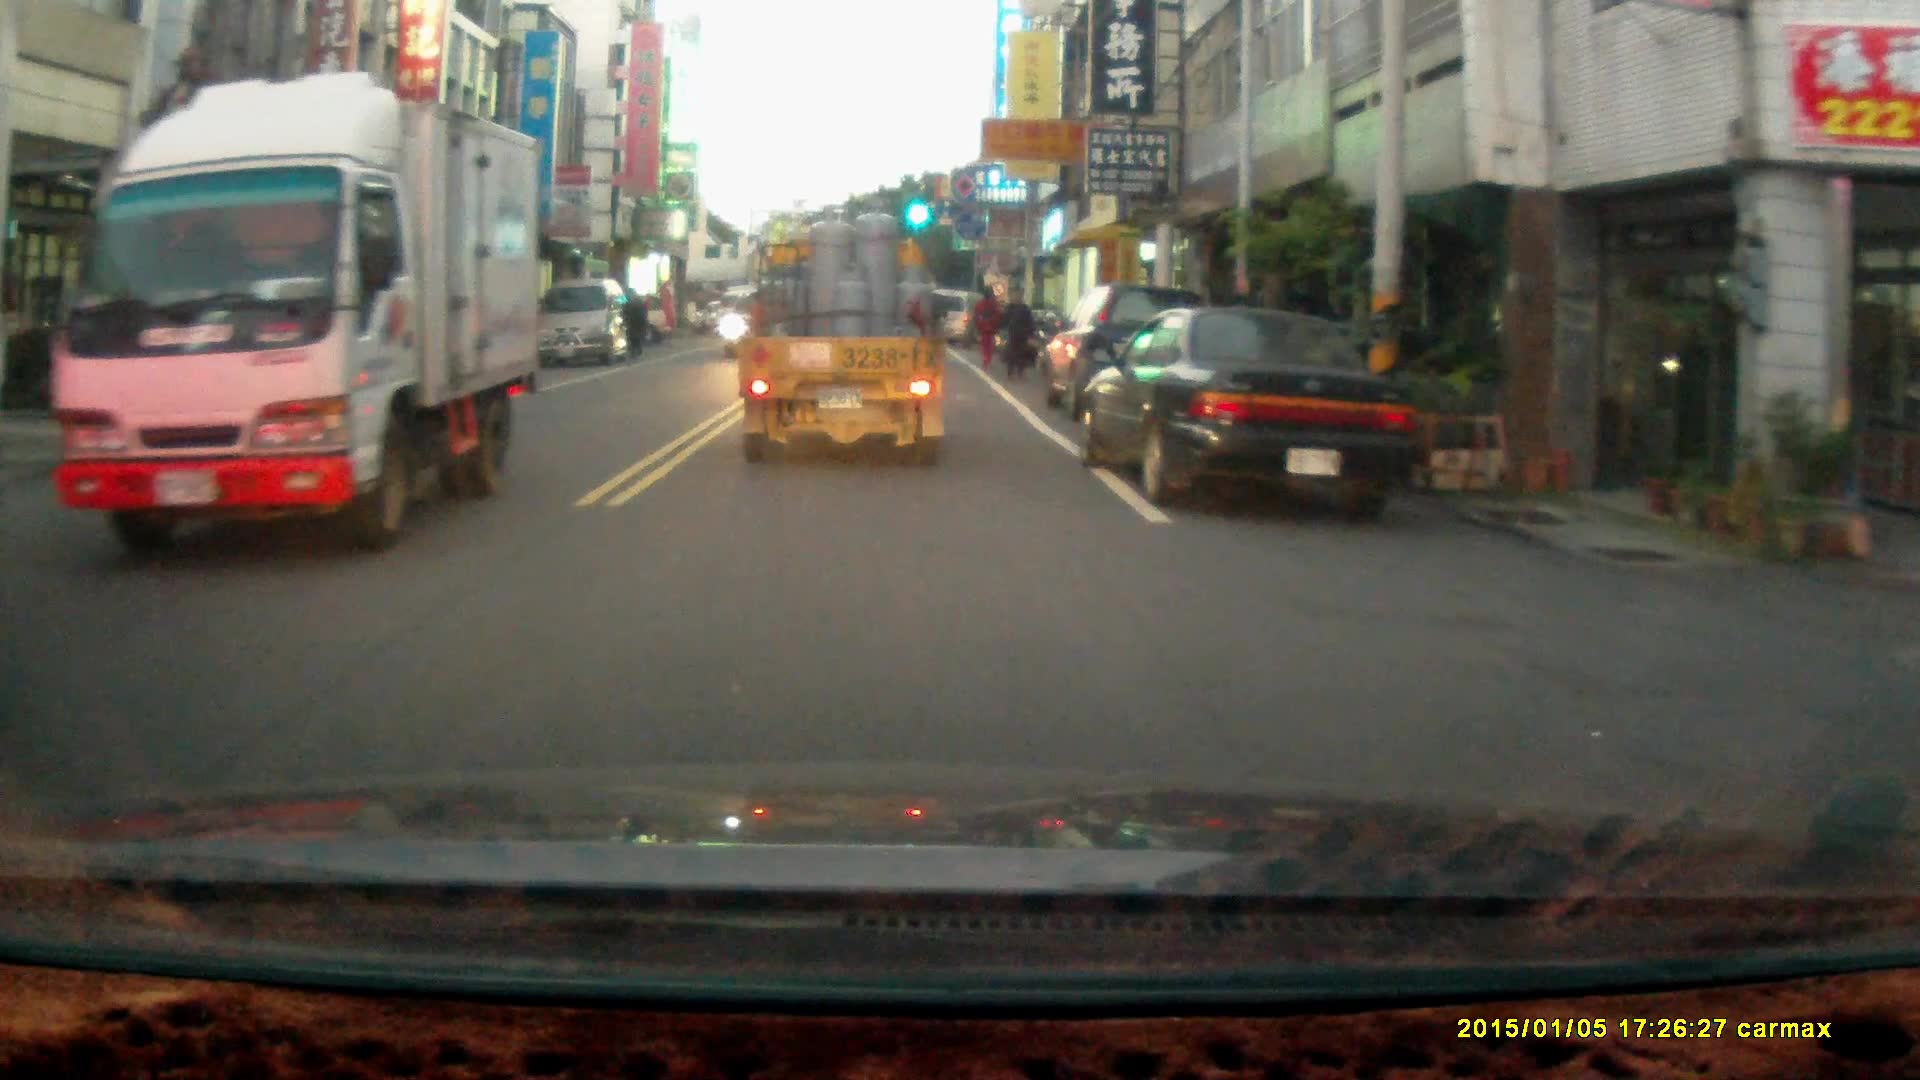pedestrian: (997, 278, 1035, 380), (970, 284, 1005, 367), (618, 287, 648, 361)
vehicle: (27, 72, 539, 550), (1081, 307, 1423, 515), (735, 194, 949, 470), (1039, 280, 1234, 424), (540, 278, 633, 367)
